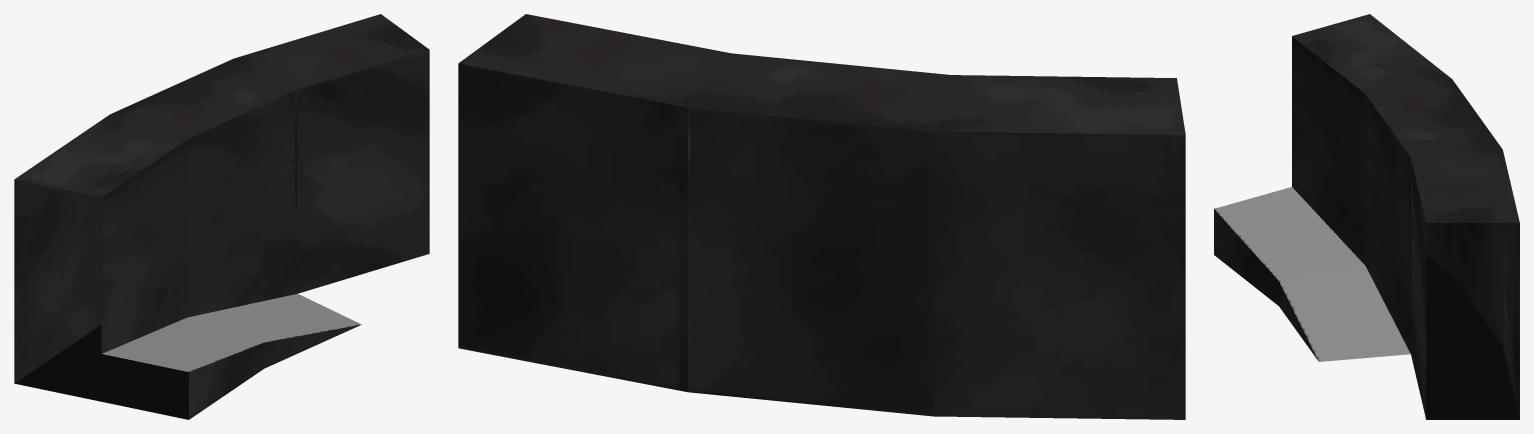
The model's file is top_12.obj.
The picture shows the model from 3 angles, left to right: view 1: azimuth 30°, elevation 25°; view 2: azimuth 150°, elevation 25°; view 3: azimuth 270°, elevation 25°; orthographic projection. The views are drawn at different scales.
Visible parts, largest first — view 1: Cylinder.038; view 2: Cylinder.038; view 3: Cylinder.038.
Part boxes in pixels (x1,y1,x2,y2): Cylinder.038: [14, 14, 429, 419]; Cylinder.038: [458, 14, 1185, 419]; Cylinder.038: [1214, 14, 1519, 419].
Bounding box in the file's own units: 21.4 × 9.41 × 13.24.
